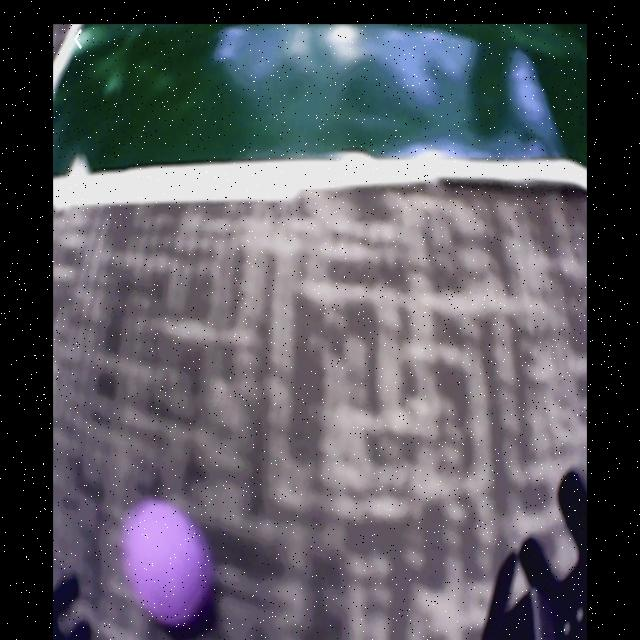ball: (129, 498, 209, 628)
